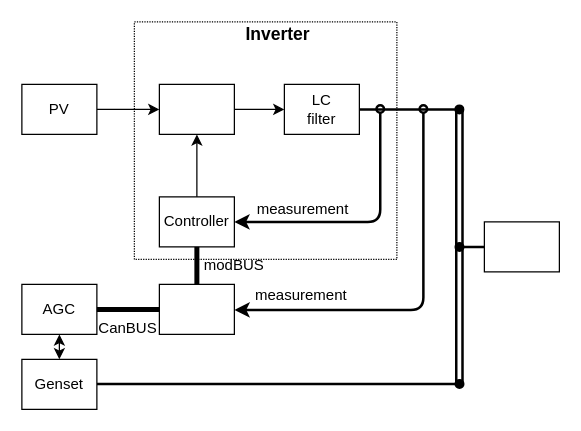
Image size: 581x431. Some labels were removed from this diagram. The centre of each missing label's shape, as x and y in pixels:
"ASC" belongs at pixel 196 308.
"Load" belongs at pixel 521 246.
"PWM Inverter" belongs at pixel 196 108.
